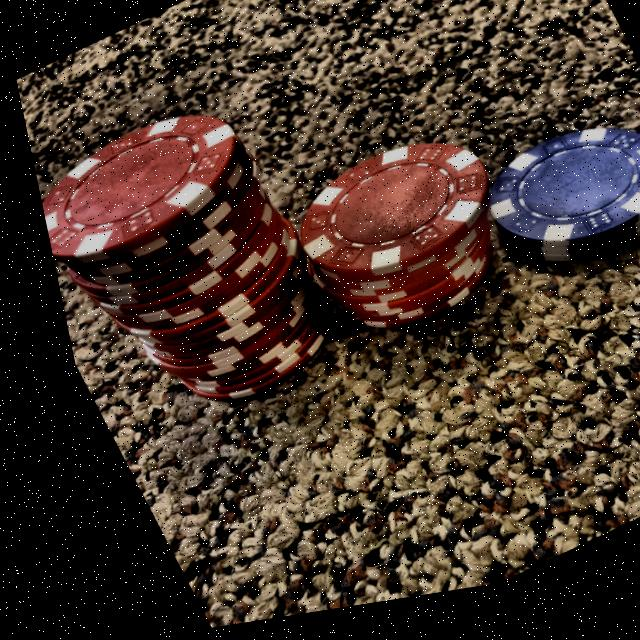Chip: (19, 83, 353, 457), (257, 121, 534, 370), (448, 109, 640, 312)
